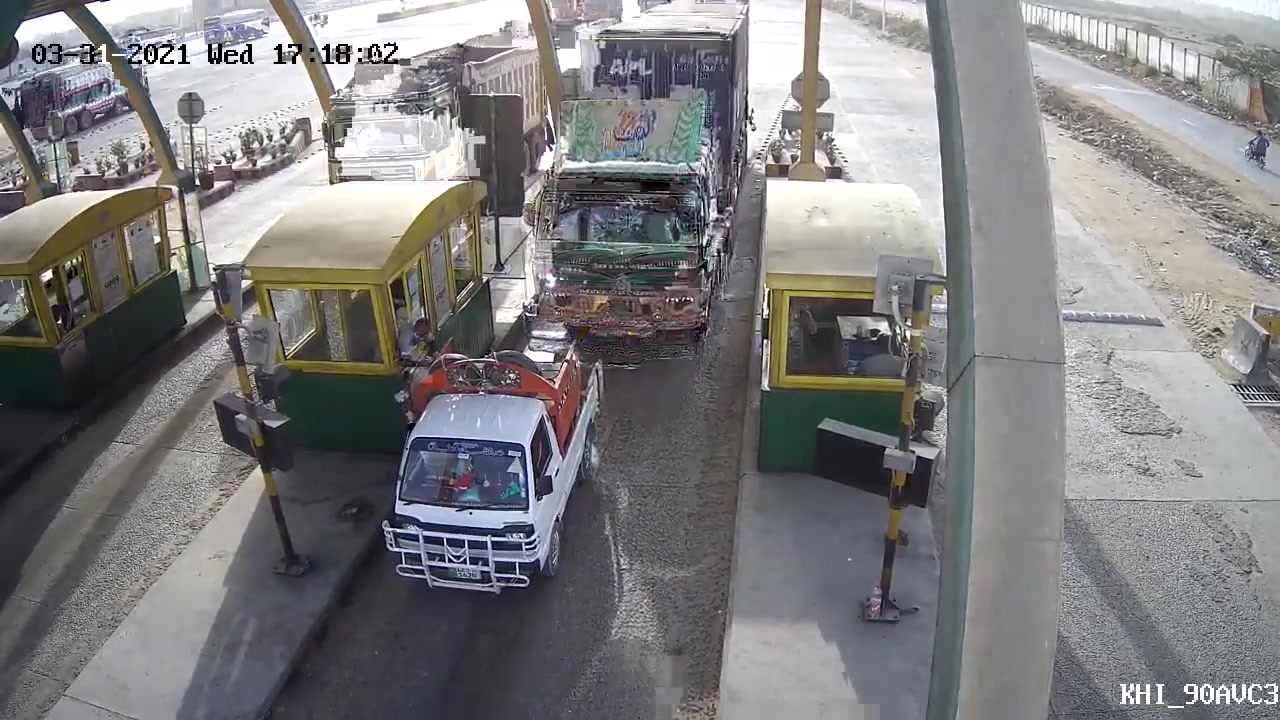F1: (378, 344, 605, 627)
